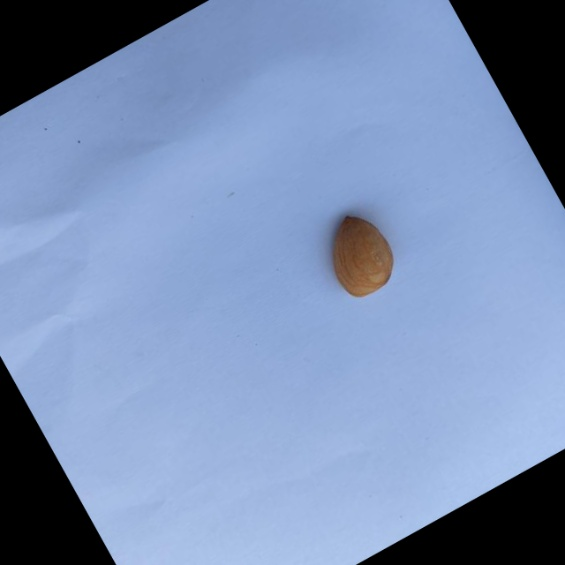grade2: (307, 202, 409, 310)
